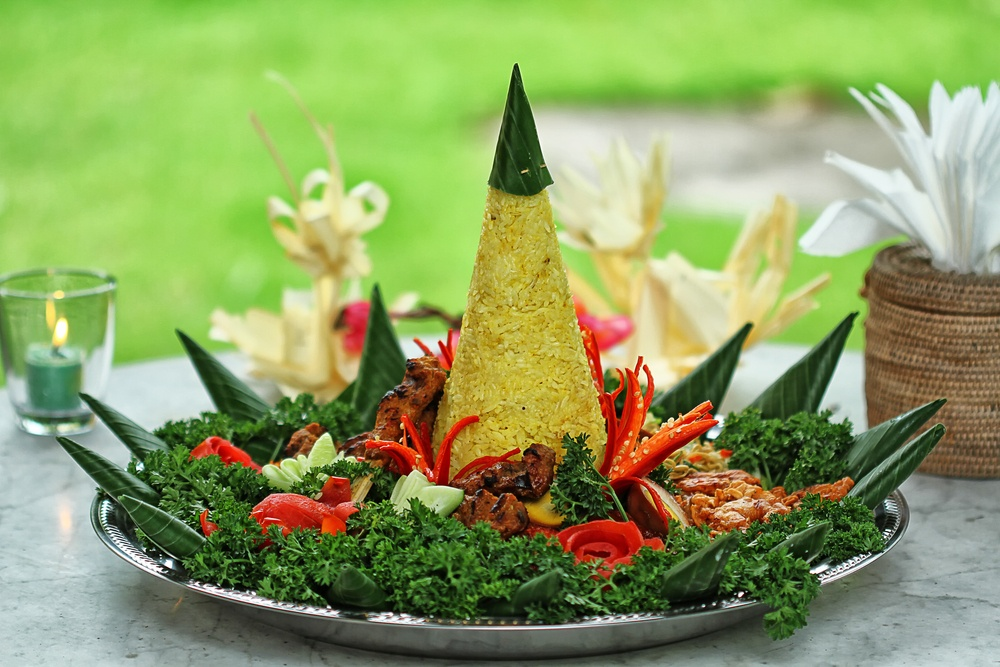tumpeng: (402, 30, 646, 468)
